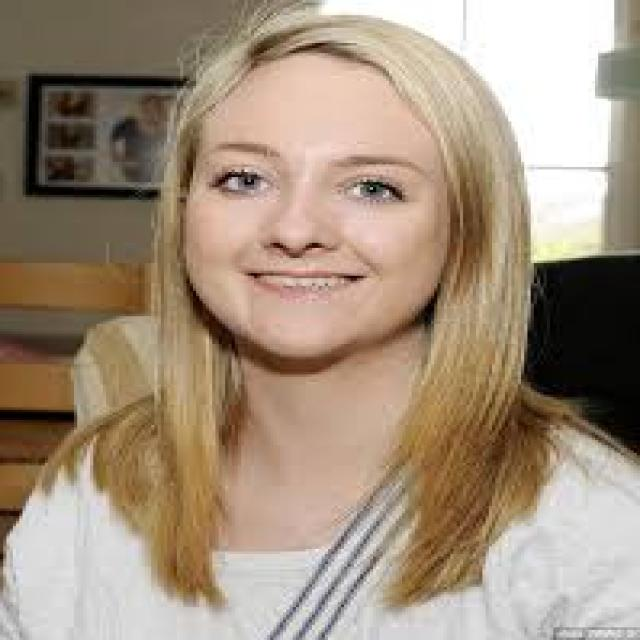normal_face: (111, 58, 529, 356)
